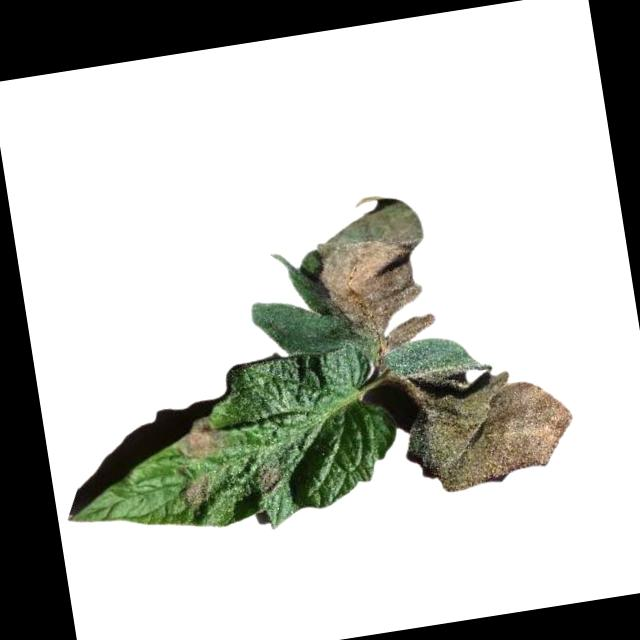Late_blight: (394, 358, 580, 499), (303, 190, 440, 361), (175, 417, 223, 463), (178, 476, 212, 510), (254, 465, 280, 495)
